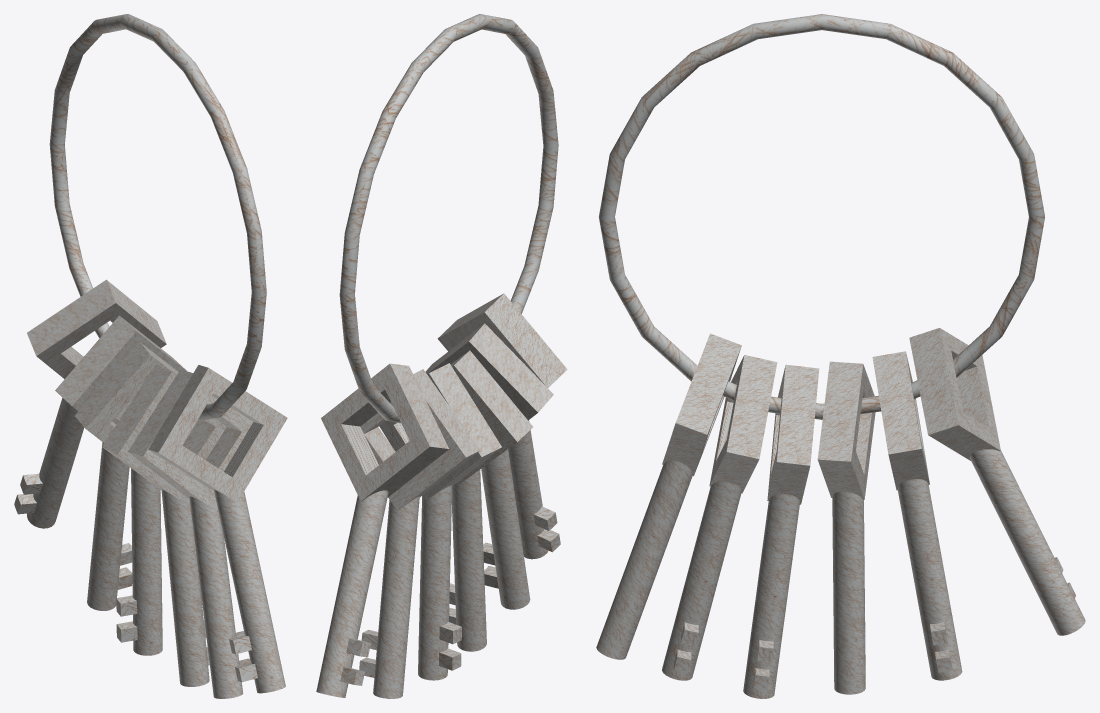
File: chaves_chaveiro.fbx
3 renders of one model, left to right at view 1: azimuth 30°, elevation 25°; view 2: azimuth 150°, elevation 25°; view 3: azimuth 270°, elevation 25°, orthographic. The views are drawn at different scales.
Visible parts, largest first — view 1: pCylinder1 (×5), pCube1 (×5), pTorus1, chavenormal1:pCube1, chavenormal1:pCylinder1; view 2: pCylinder1 (×5), pCube1 (×5), pTorus1, chavenormal1:pCube1, chavenormal1:pCylinder1; view 3: pCylinder1 (×5), pCube1 (×5), pTorus1, chavenormal1:pCylinder1, chavenormal1:pCube1.
Part boxes in pixels (x1,y1,x2,y2): pCylinder1 (×5): (14, 398, 250, 698); pCube1 (×5): (27, 279, 252, 508); pTorus1: (49, 14, 266, 421); chavenormal1:pCube1: (148, 365, 287, 502); chavenormal1:pCylinder1: (214, 490, 285, 693); pCylinder1 (×5): (316, 449, 530, 698); pCube1 (×5): (321, 323, 553, 510); pTorus1: (339, 14, 558, 423); chavenormal1:pCube1: (437, 293, 567, 387); chavenormal1:pCylinder1: (508, 420, 560, 559); pCylinder1 (×5): (662, 449, 1085, 698); pCube1 (×5): (709, 328, 1000, 504); pTorus1: (599, 14, 1044, 419); chavenormal1:pCylinder1: (596, 460, 692, 659); chavenormal1:pCube1: (662, 333, 741, 476).
Size of the model in its own units: 3.63 by 17.19 by 11.27.
